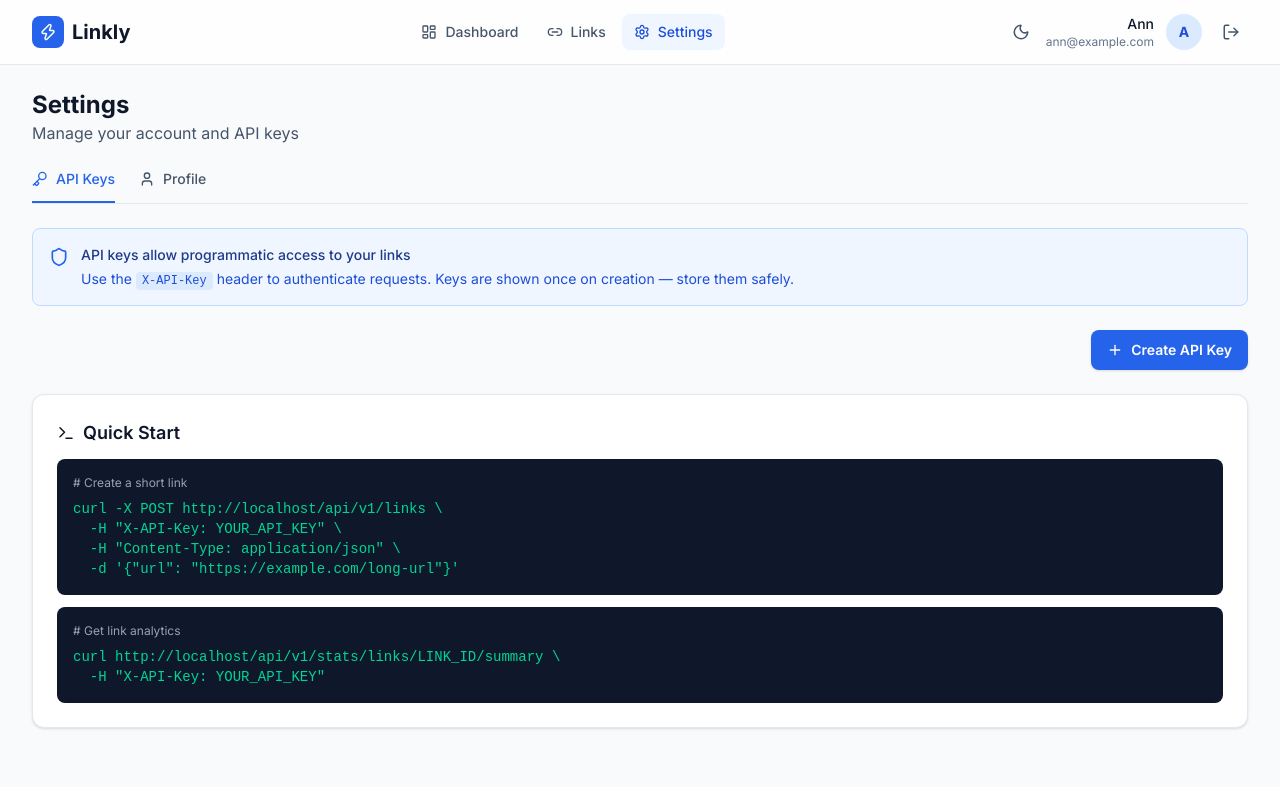
Settings › shows the server error when the email is taken
Click the button "Profile".
click(173, 186)  # box [139,169,206,203]
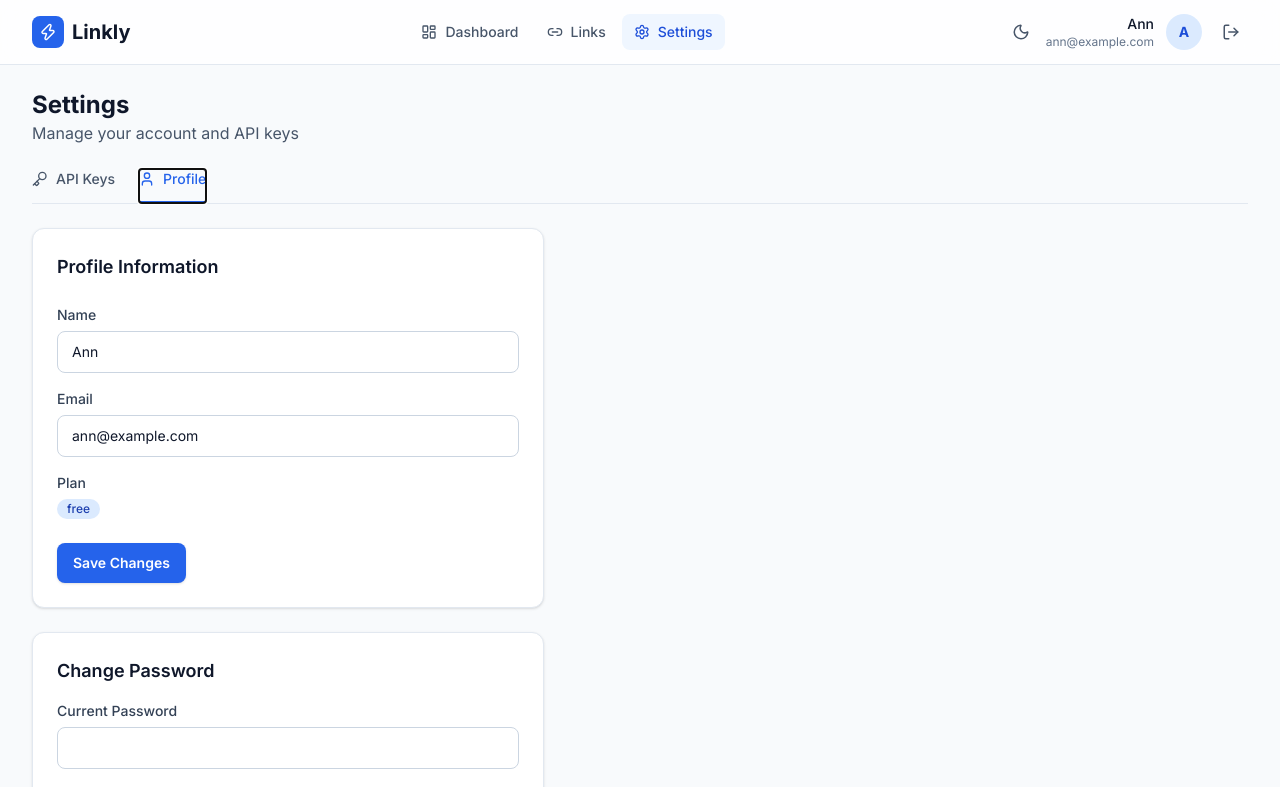
Click the button "Save Changes".
click(121, 563)  # box [57,543,186,583]
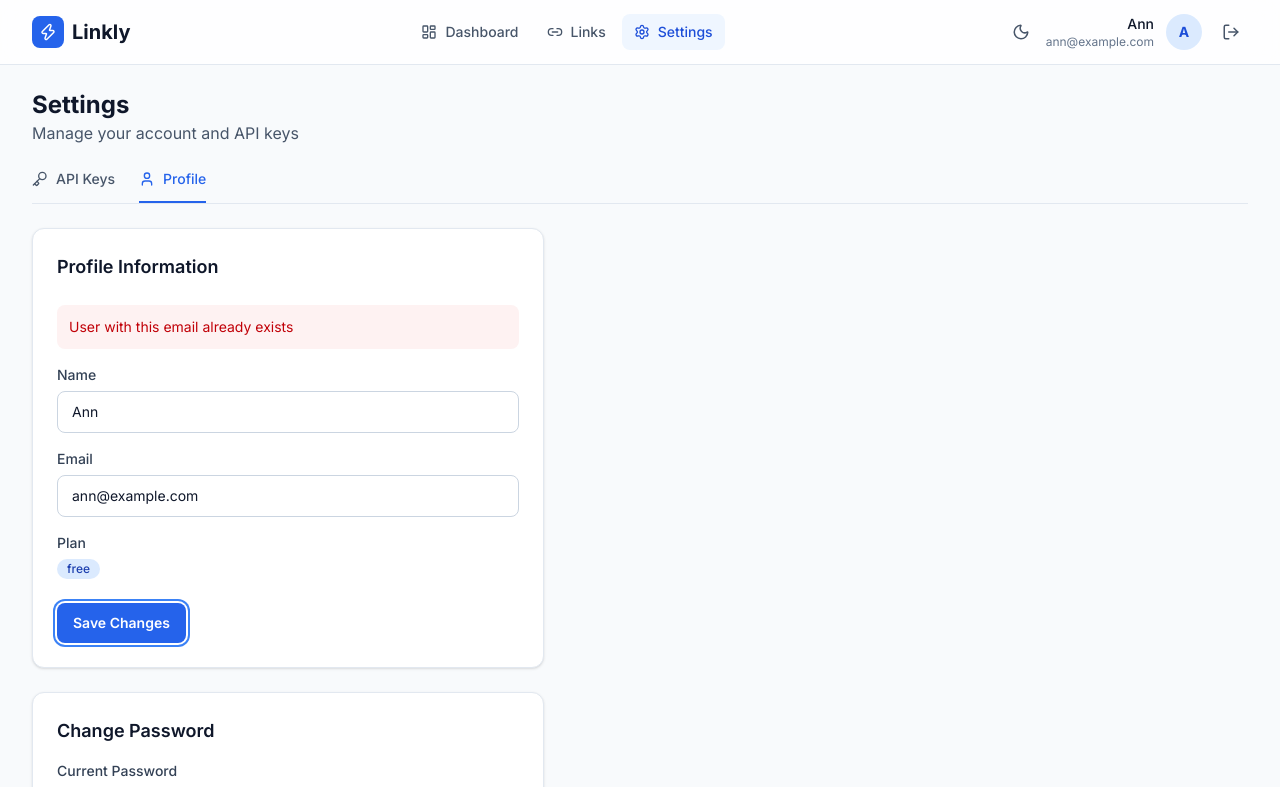
expect the text "User with this email already exists" is shown: met, box [57,305,519,349]
